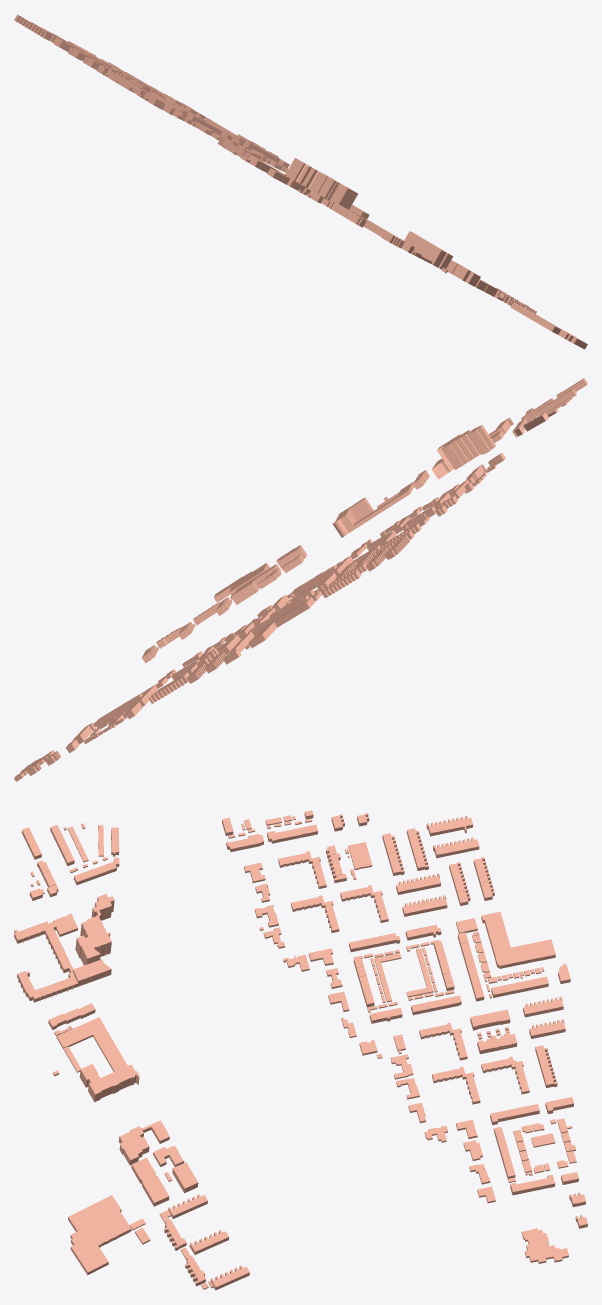
3 views of the same model, one above another, from view 1: azimuth 30°, elevation 25°; view 2: azimuth 150°, elevation 25°; view 3: azimuth 270°, elevation 25° (orthographic). The views are drawn at different scales.
Size of the model in its own units: 502 by 377 by 656.
